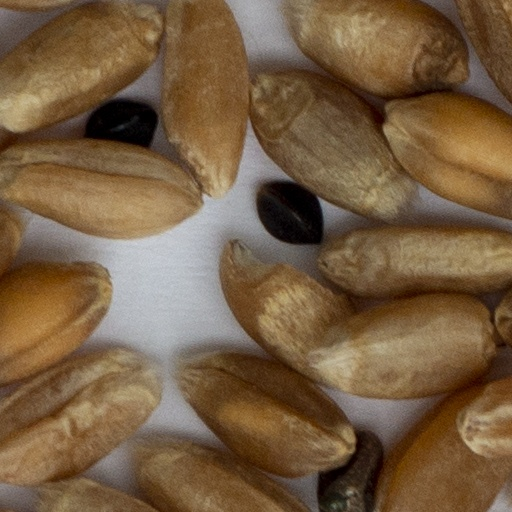Convolvulus-poly: (318, 433, 380, 511)
Fallopia-Convolvulus-poly: (257, 185, 321, 243), (86, 103, 156, 145)
